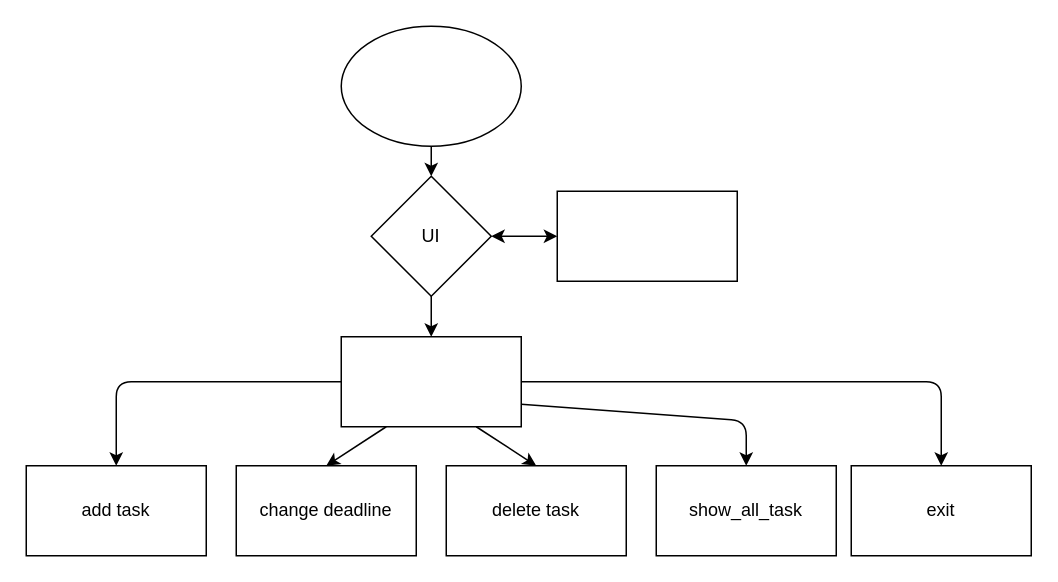
Image size: 1058x582. Some labels were removed from this diagram. Here are the shapes that lost their labels. From the top down, the centre of each, then its label:
At point 430,85: "start: main".
At point 646,235: "int check".
At point 430,381: "Controller".
